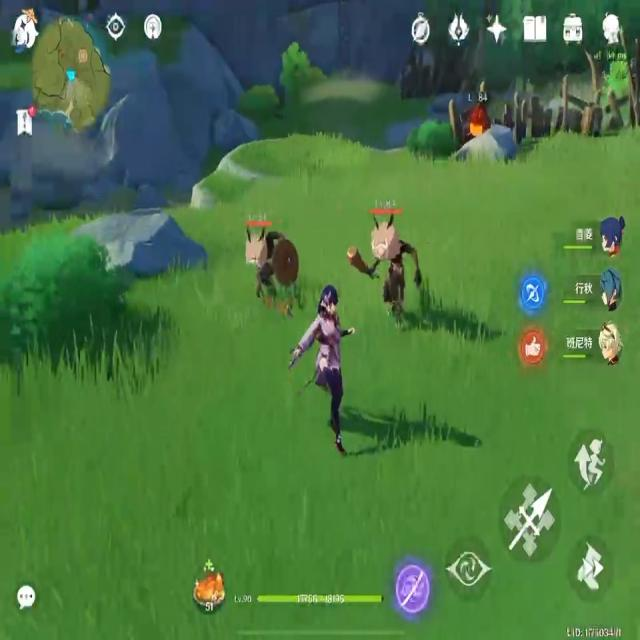genshin-hilichurls: (356, 199, 418, 331), (241, 211, 302, 322)
